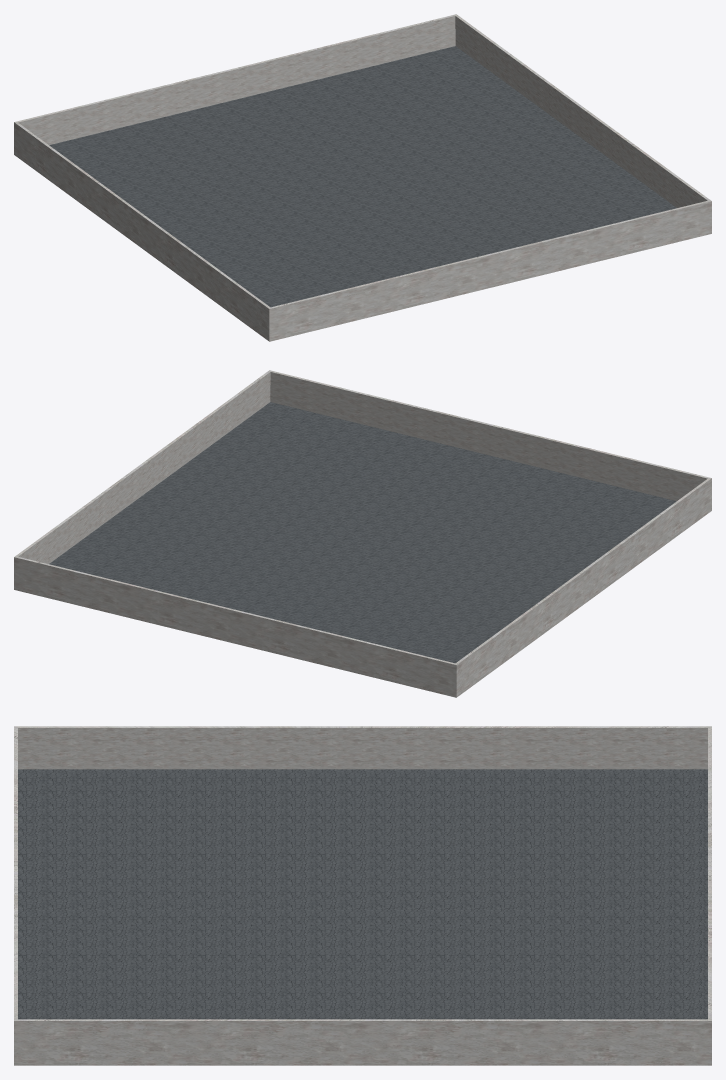
File: playground.obj
3 renders of one model, top to bottom at view 1: azimuth 30°, elevation 25°; view 2: azimuth 150°, elevation 25°; view 3: azimuth 270°, elevation 25°, orthographic. The views are drawn at different scales.
Visible parts, largest first — view 1: Cube.001; view 2: Cube.001; view 3: Cube.001.
Part boxes in pixels (x1=…): Cube.001: x1=14, y1=14, x2=711, y2=341; Cube.001: x1=14, y1=370, x2=711, y2=697; Cube.001: x1=14, y1=726, x2=711, y2=1065.
Size of the model in its own units: 60 by 4.24 by 60.
2 materials, 2 textured.
